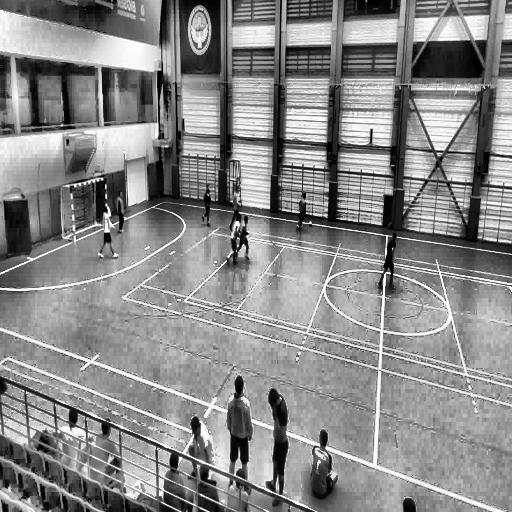ball: (308, 220, 312, 229)
player: (227, 376, 253, 486), (267, 386, 289, 504), (310, 429, 338, 504), (378, 222, 396, 290), (224, 214, 244, 268), (99, 205, 118, 261), (228, 180, 243, 234), (234, 214, 250, 263), (116, 187, 128, 237), (202, 184, 212, 228), (296, 193, 307, 231)
